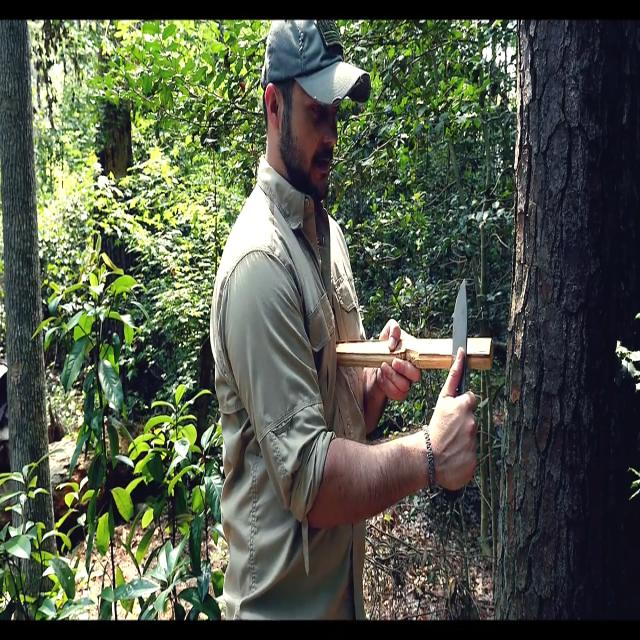knife: (453, 279, 471, 360)
